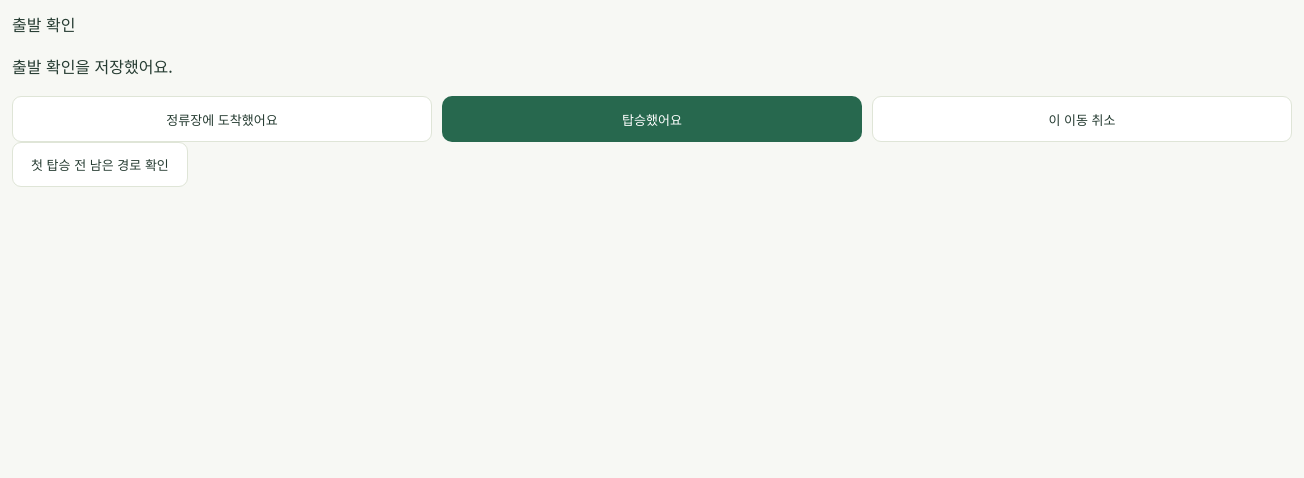
Test: records approach then boarding and restores persisted progress
Click the button "정류장에 도착했어요": point(222, 119) 12,96 -> 432,142
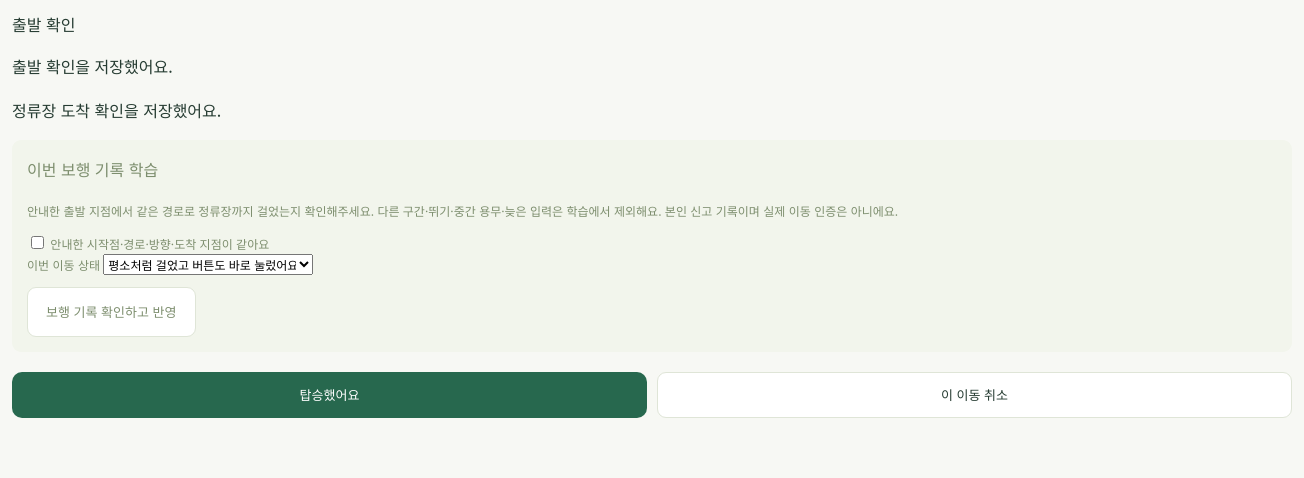
Result: the text "정류장 도착 확인을 저장했어요." is shown at 12,98 -> 221,122
Result: the button "첫 탑승 전 남은 경로 확인" is gone
Click the button "탑승했어요": point(330, 395) 12,372 -> 647,418
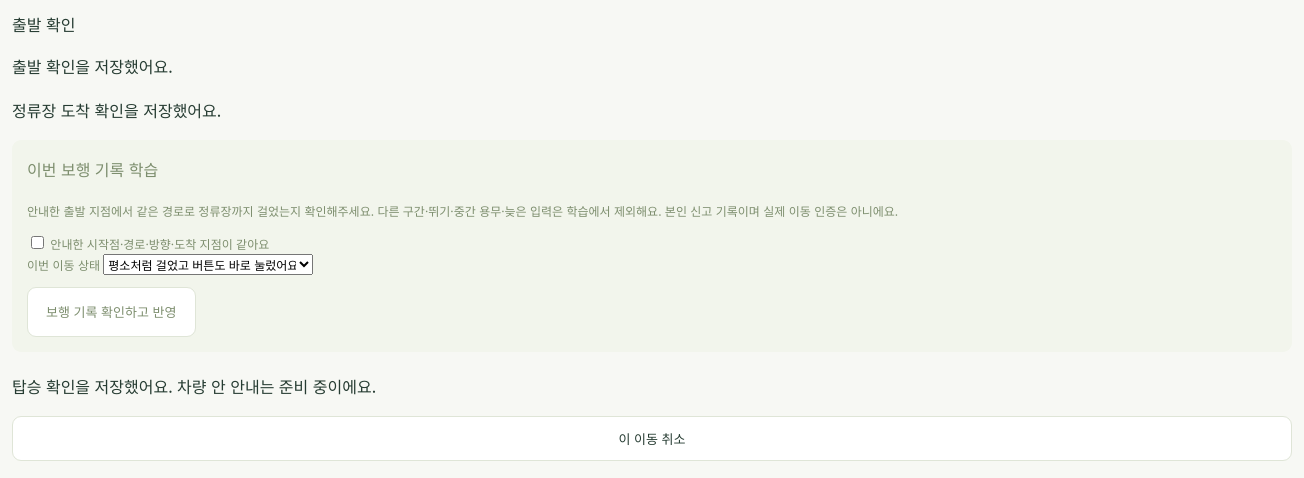
Result: the text "탑승 확인을 저장했어요. 차량 안 안내는 준비 중이에요." is shown at 12,374 -> 376,398
Result: the button "탑승했어요" is gone
